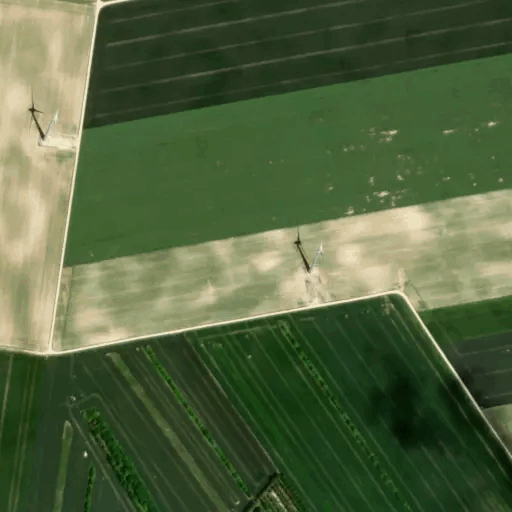wt: (283, 215, 333, 284), (20, 86, 64, 149)
